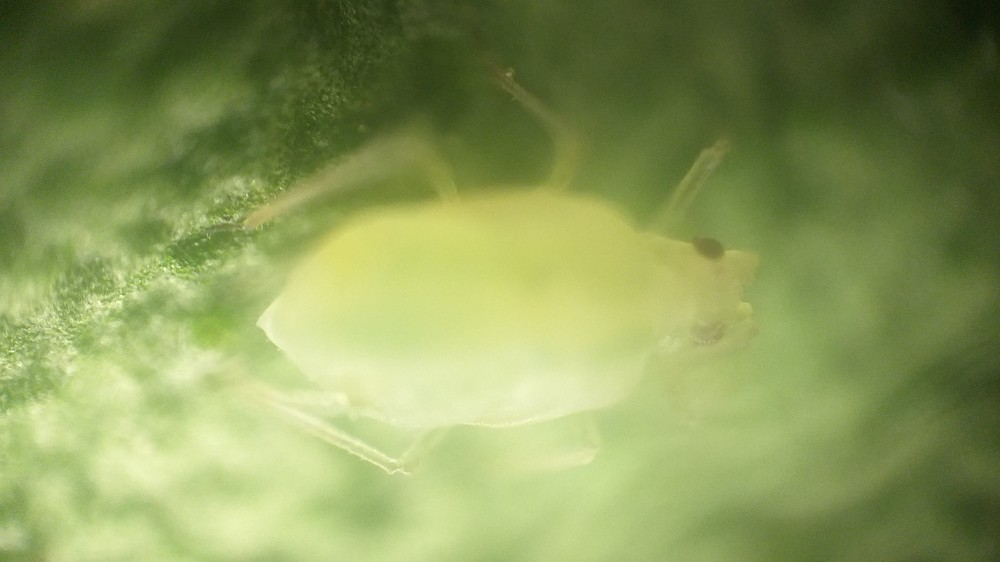Pulgon: (236, 75, 794, 522)
